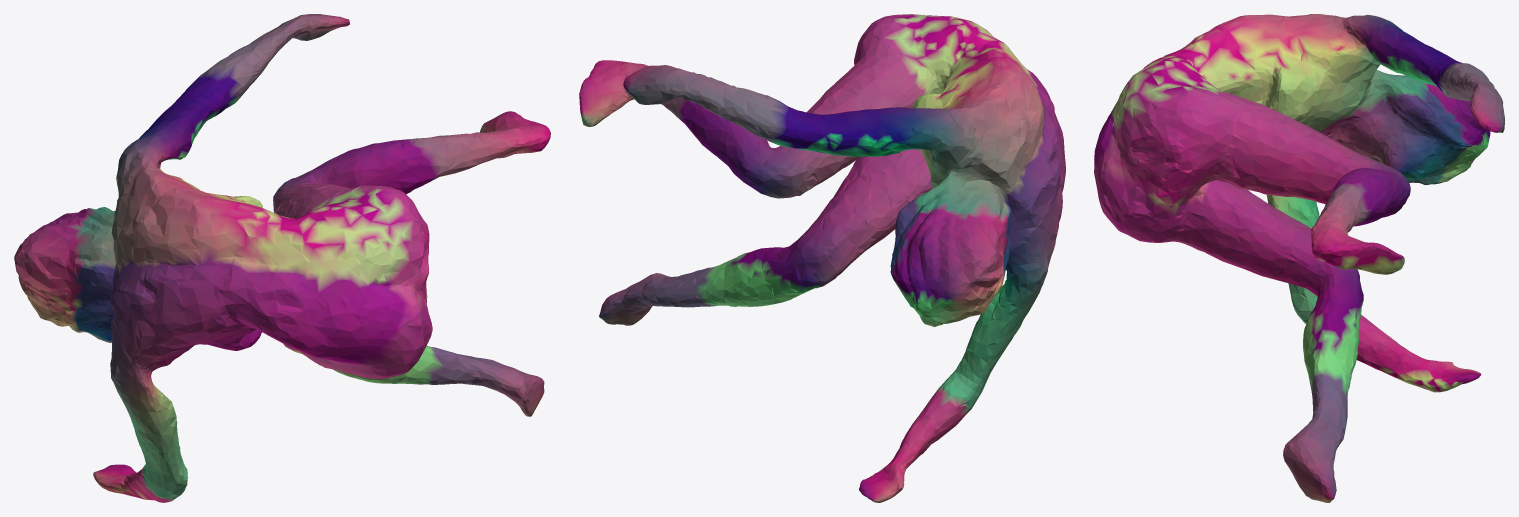
Rendered from woman-13.off.obj.
3 renders of one model, left to right at view 1: azimuth 30°, elevation 25°; view 2: azimuth 150°, elevation 25°; view 3: azimuth 270°, elevation 25°, orthographic. The views are drawn at different scales.
Size of the model in its own units: 1.21 by 1.01 by 0.9557.
